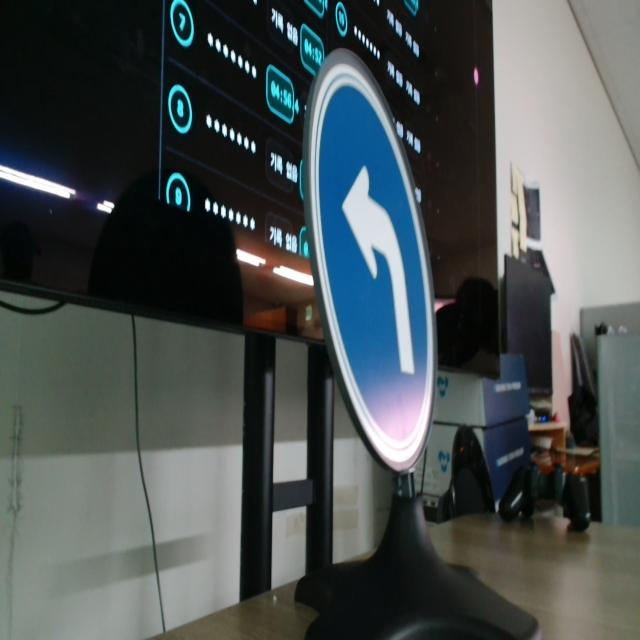left_direction: (292, 20, 462, 489)
